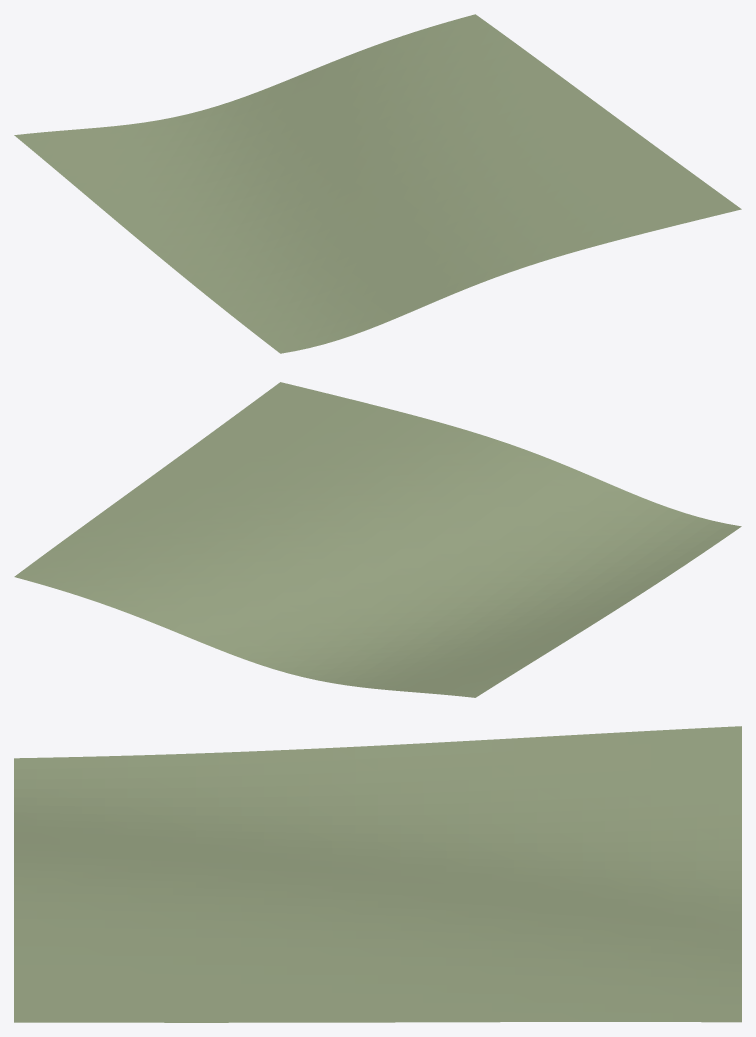
Rendered from desert-12-31.glb.
3 renders of one model, top to bottom at view 1: azimuth 30°, elevation 25°; view 2: azimuth 150°, elevation 25°; view 3: azimuth 270°, elevation 25°, orthographic. The views are drawn at different scales.
Visible parts, largest first — view 1: desert-12-31; view 2: desert-12-31; view 3: desert-12-31.
Boxes of the visible parts, x1=… form: desert-12-31: x1=14, y1=14, x2=741, y2=353; desert-12-31: x1=14, y1=382, x2=741, y2=697; desert-12-31: x1=14, y1=726, x2=741, y2=1022.
Size of the model in its own units: 512 by 35.63 by 512.
